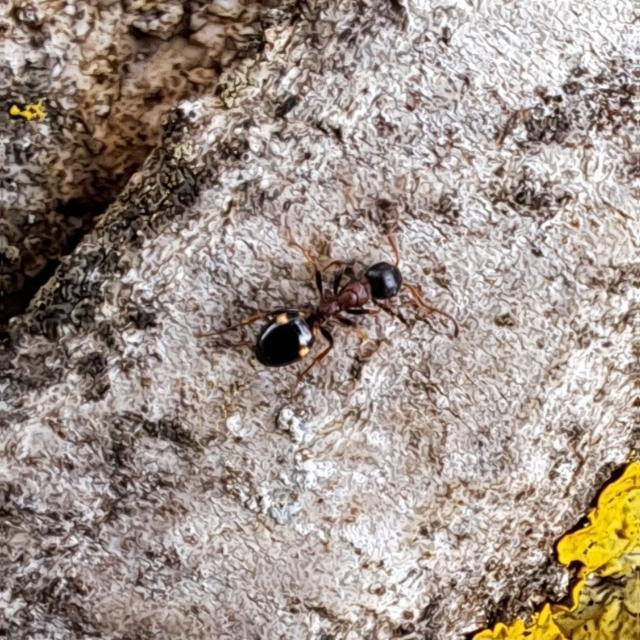Dolichoderus: (217, 232, 435, 384)
